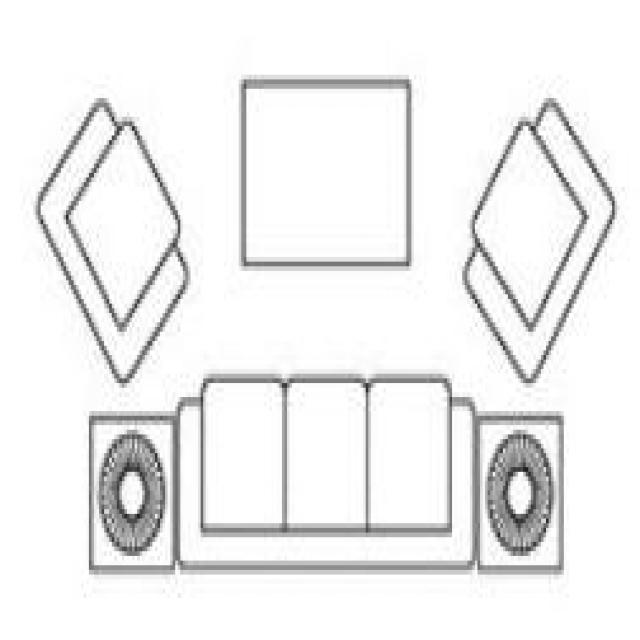sofa: (28, 61, 615, 593)
